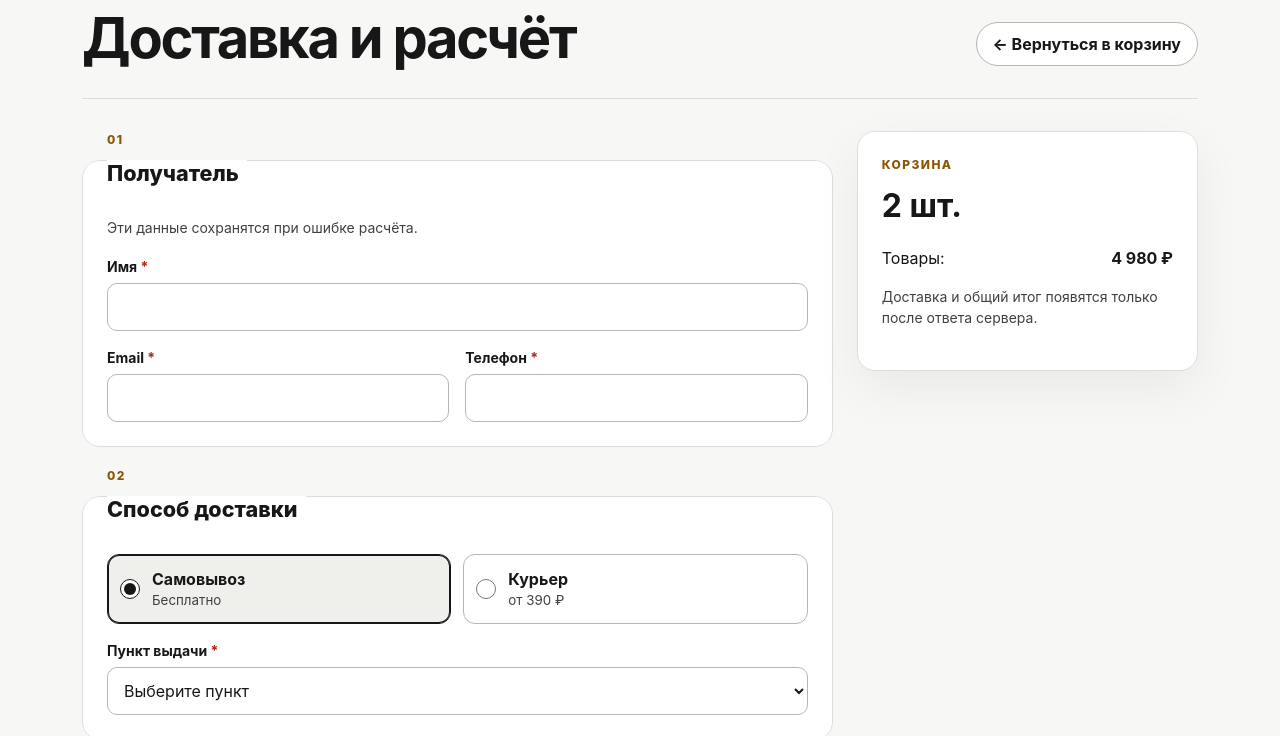
Checkout Page › maps backend customer field errors to their controls
Type "Тестовый Покупатель" into the field labelled "Имя *" at [457, 307], box [107,283,808,331]
Type "buyer@example.test" into the field labelled "Email *" at [278, 398], box [107,374,449,422]
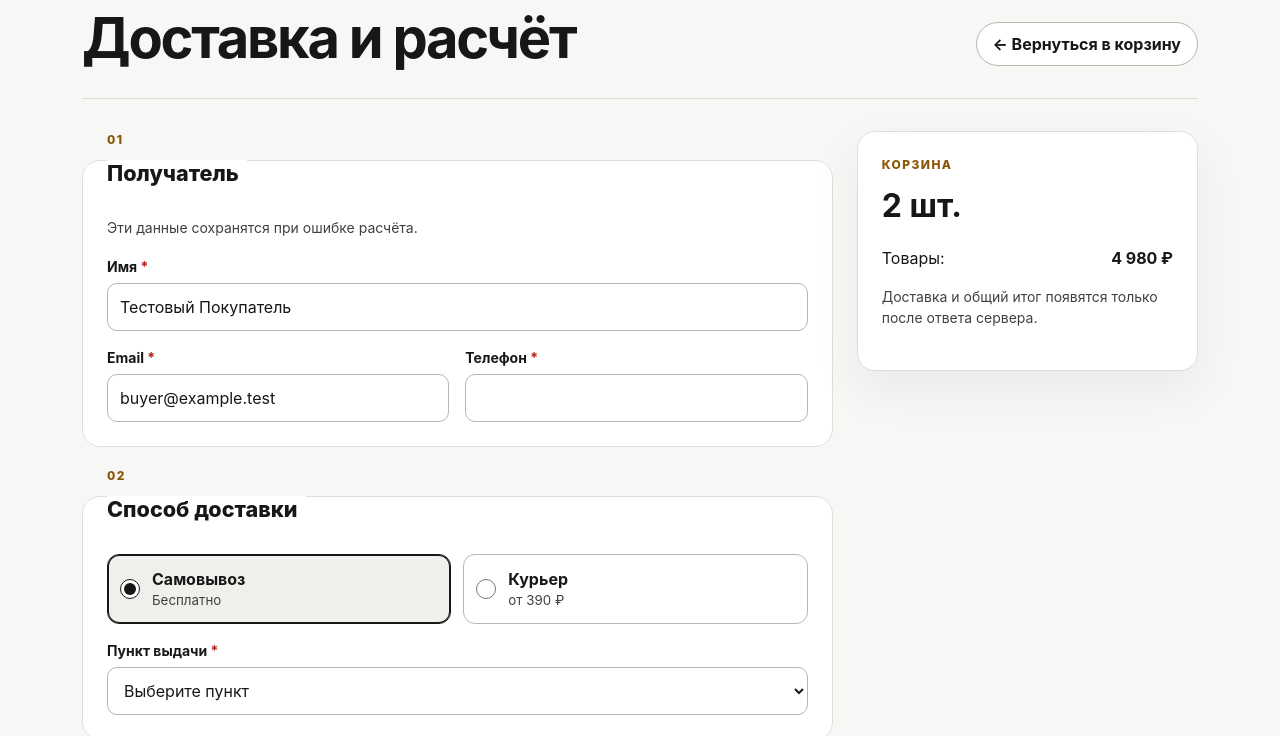
Type "+79990000000" into the field labelled "Телефон *" at [637, 398], box [465,374,808,422]
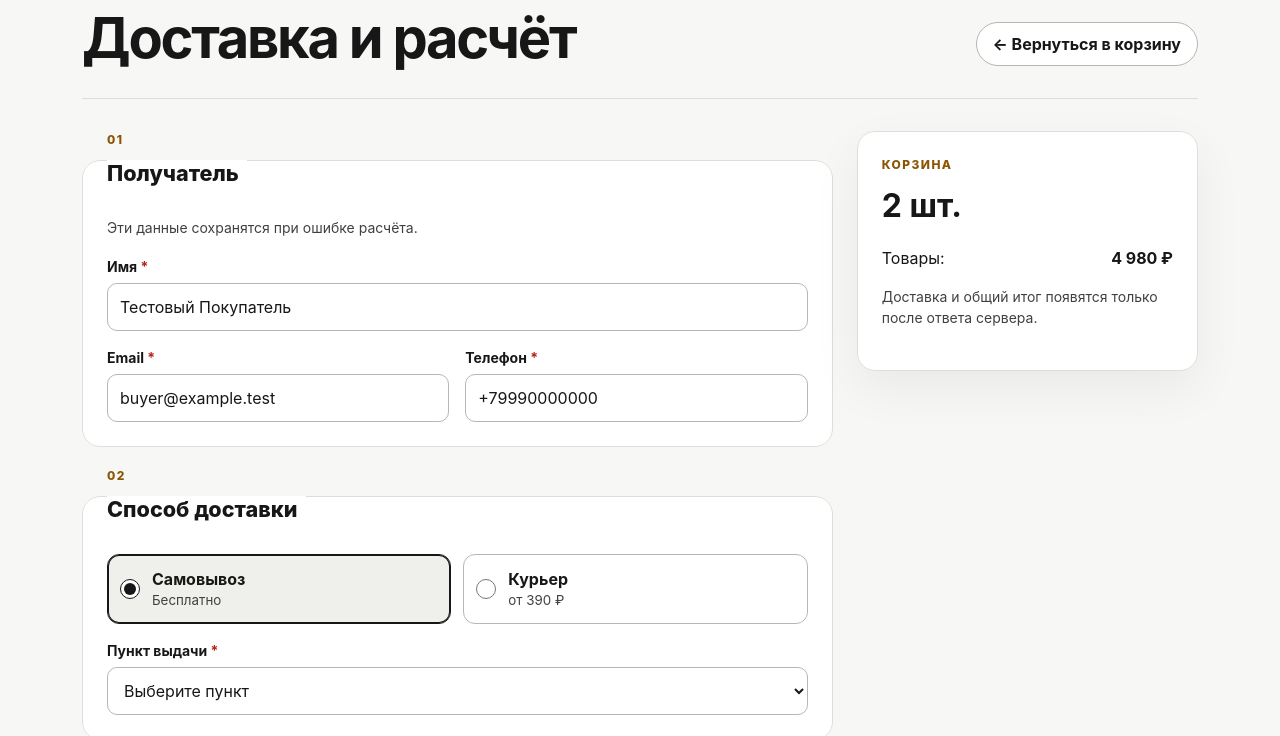
Select "Центр — Учебная, 1" in the dropdown labelled "Пункт выдачи *" at [457, 691], box [107,667,808,715]
(page scrolled)
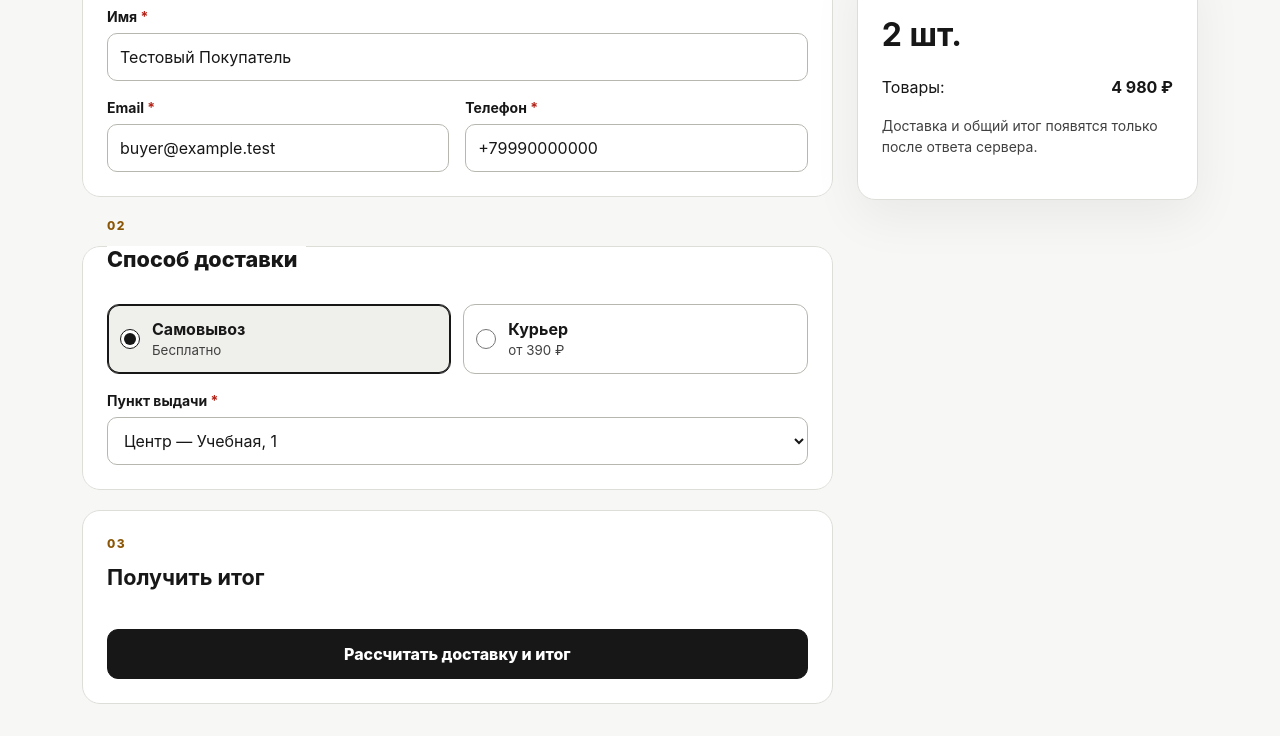
Click the button "Рассчитать доставку и итог" at [457, 654], box [107,629,808,679]
(page scrolled)
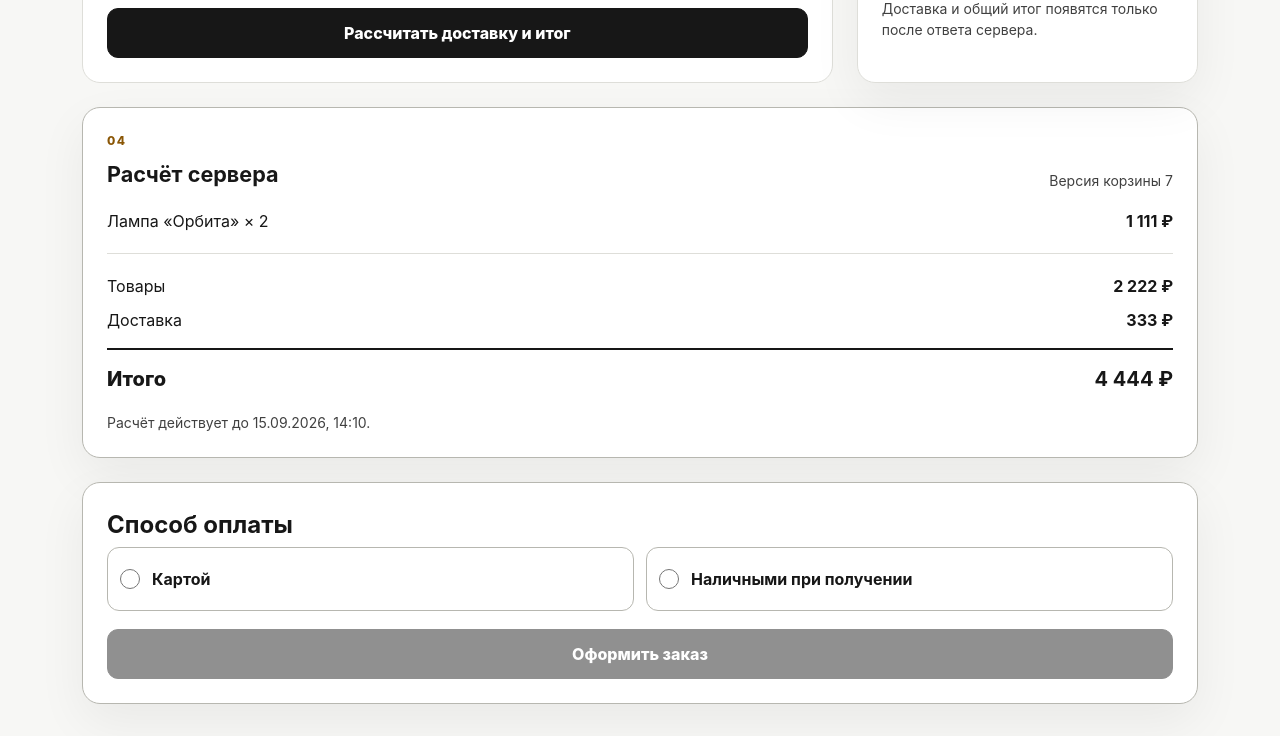
Expected: the heading "Способ оплаты" is shown, [107,510,293,538]
Click the radio button labelled "Наличными при получении" at [669, 578], box [659,568,679,588]
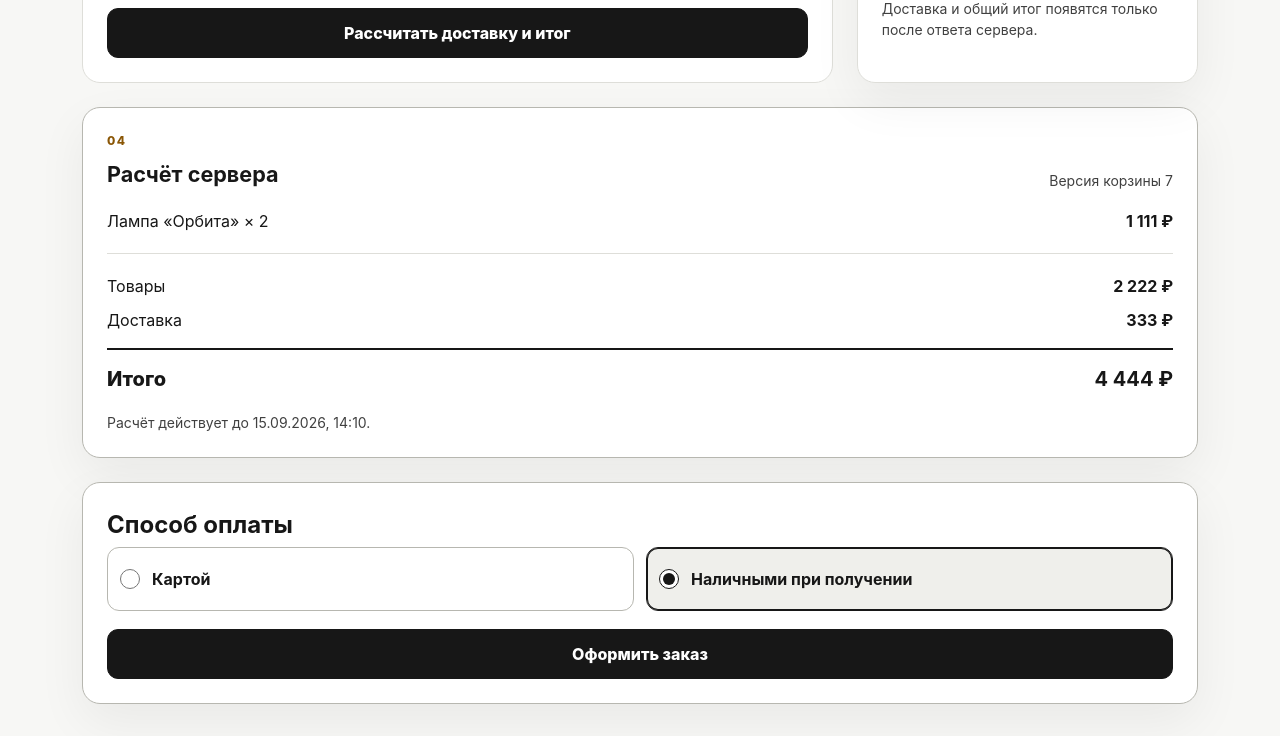
Click the button "Оформить заказ" at [640, 654], box [107,628,1173,678]
(page scrolled)
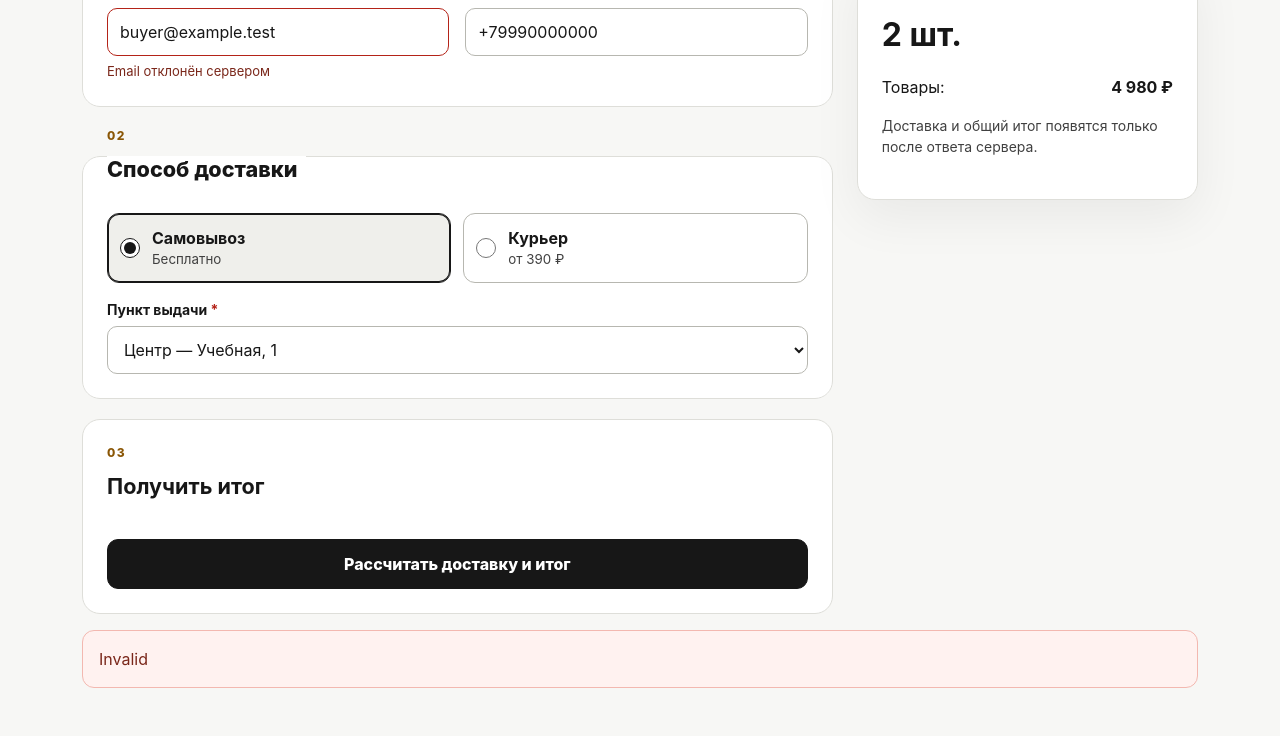
Expected: the text "Email отклонён сервером" is shown, [107,63,270,79]
